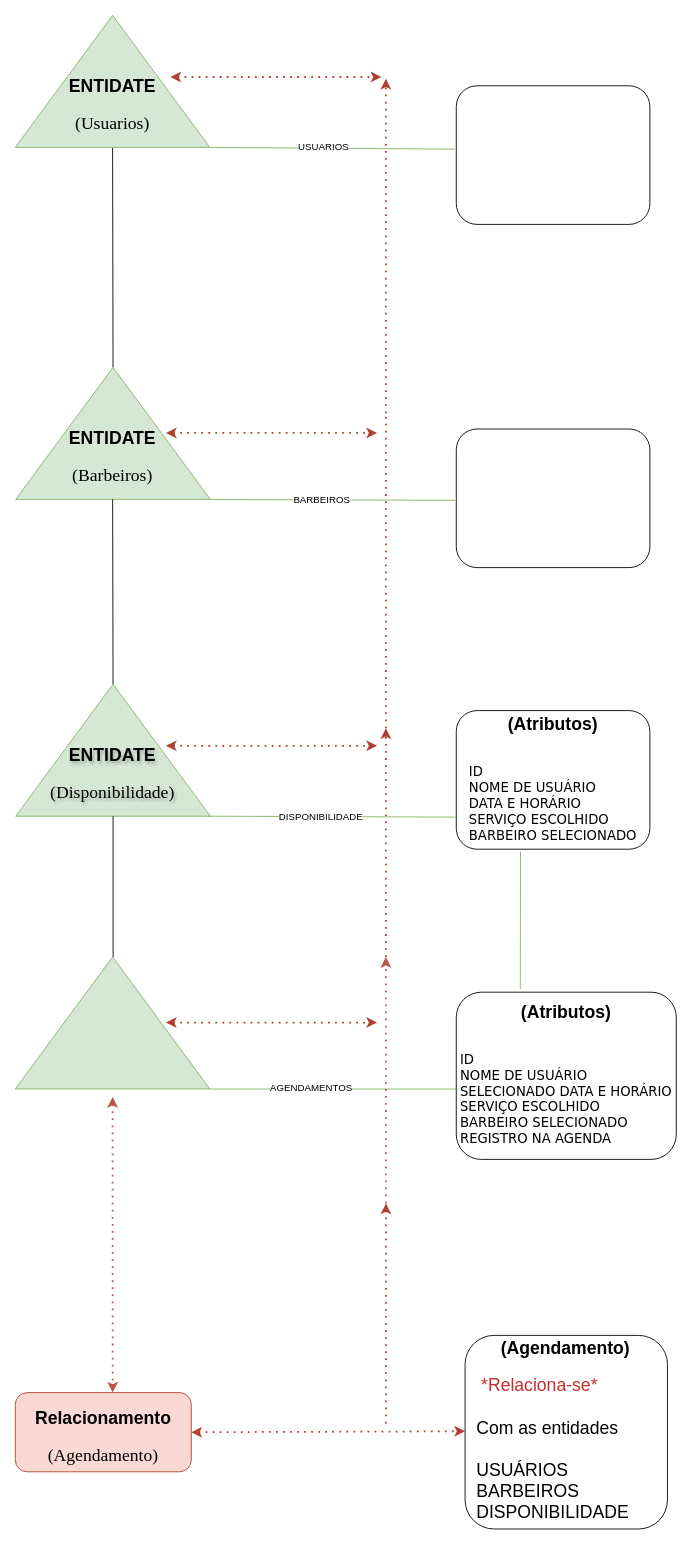
Image size: 693x1558. Some labels were removed from this diagram. Here are the shapes that lost their labels. From the top down, the centre of each, then its label:
(552,154): (Atributos) ID NOME TELEFONE EMAIL FOTO "opciaonal"
(552,498): (Atributos) ID NOME DISPONIBILIDADE
(112,1022): ENTIDATE (Agendamentos )
